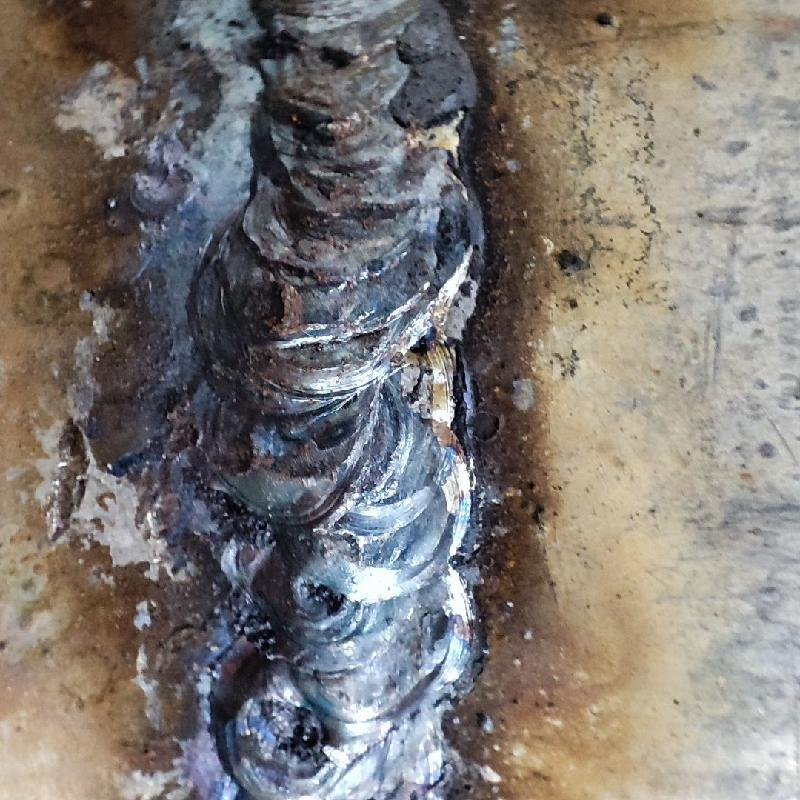Surface_pores: (296, 576, 348, 624), (310, 41, 366, 73)
